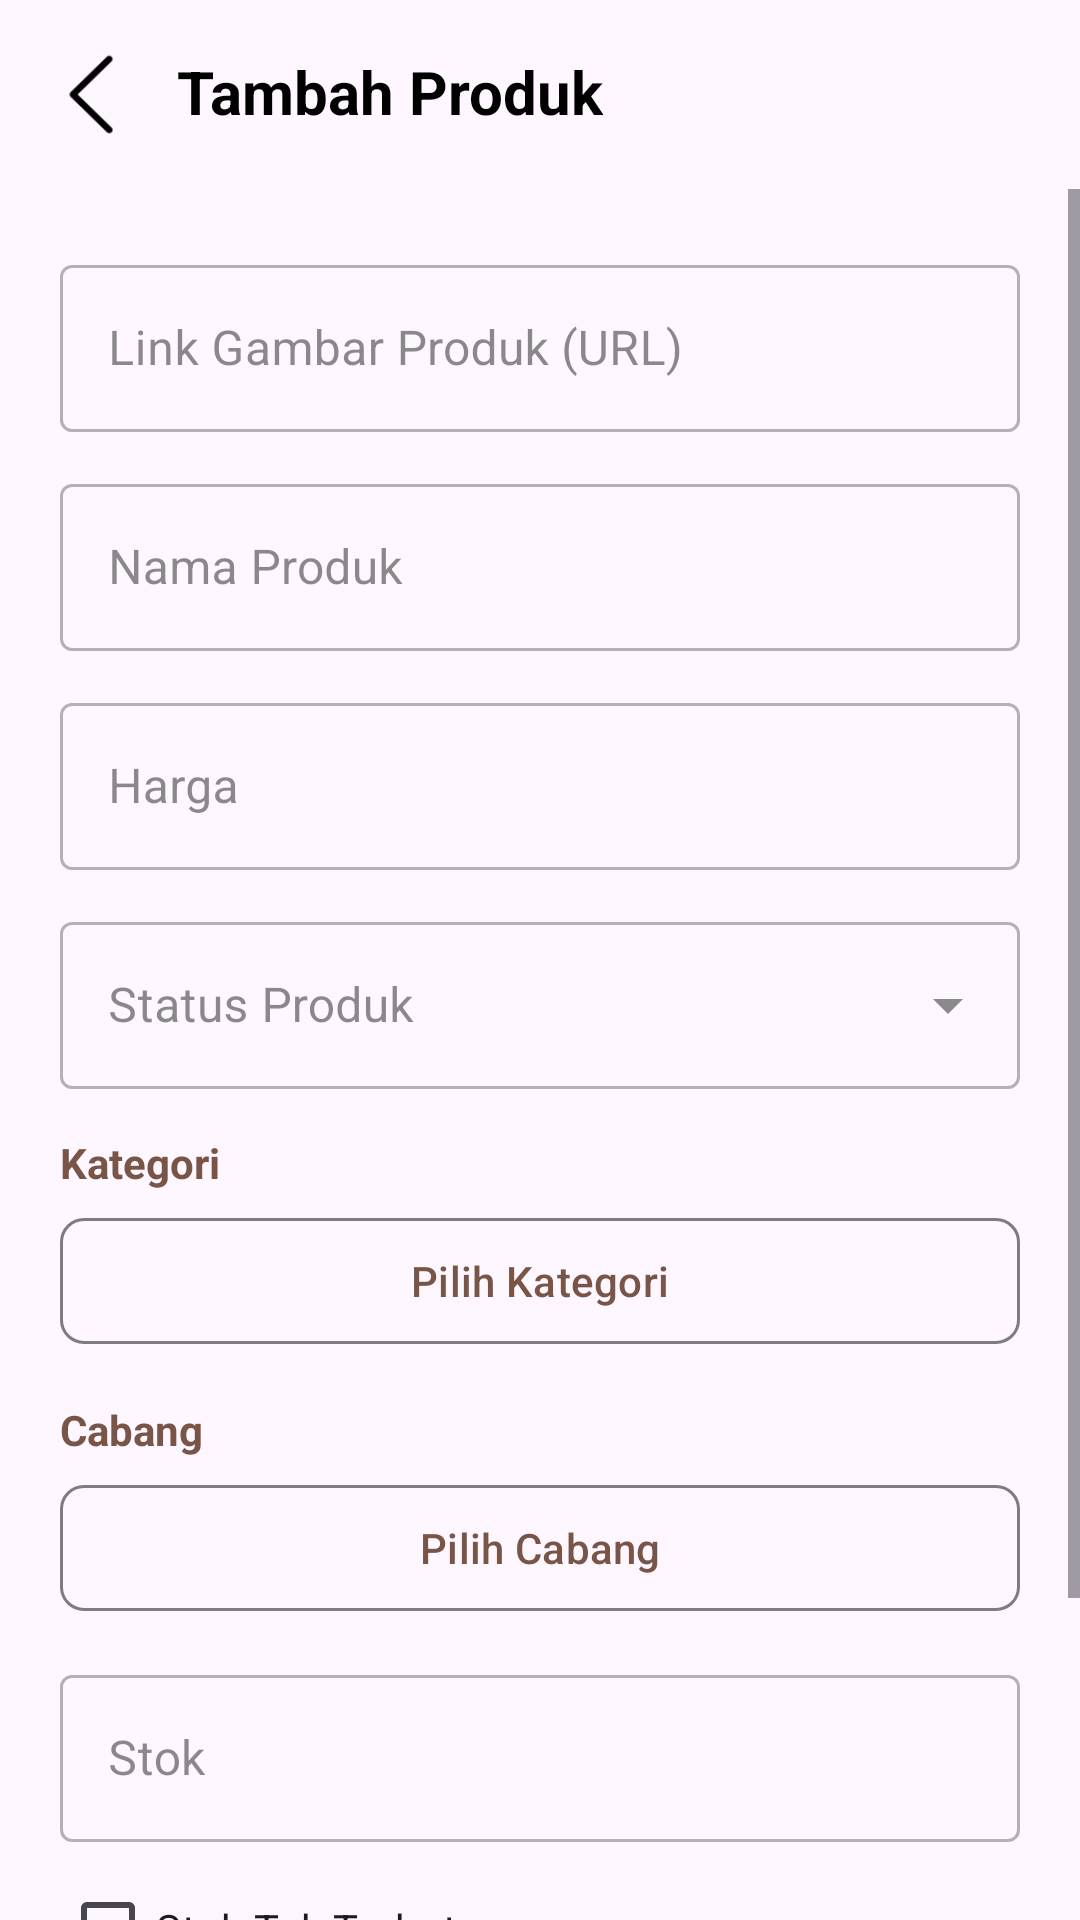

Named icons in this screenshot (1080 × 1920) and their centers, [x,y]:
Kembali: [91,94]
